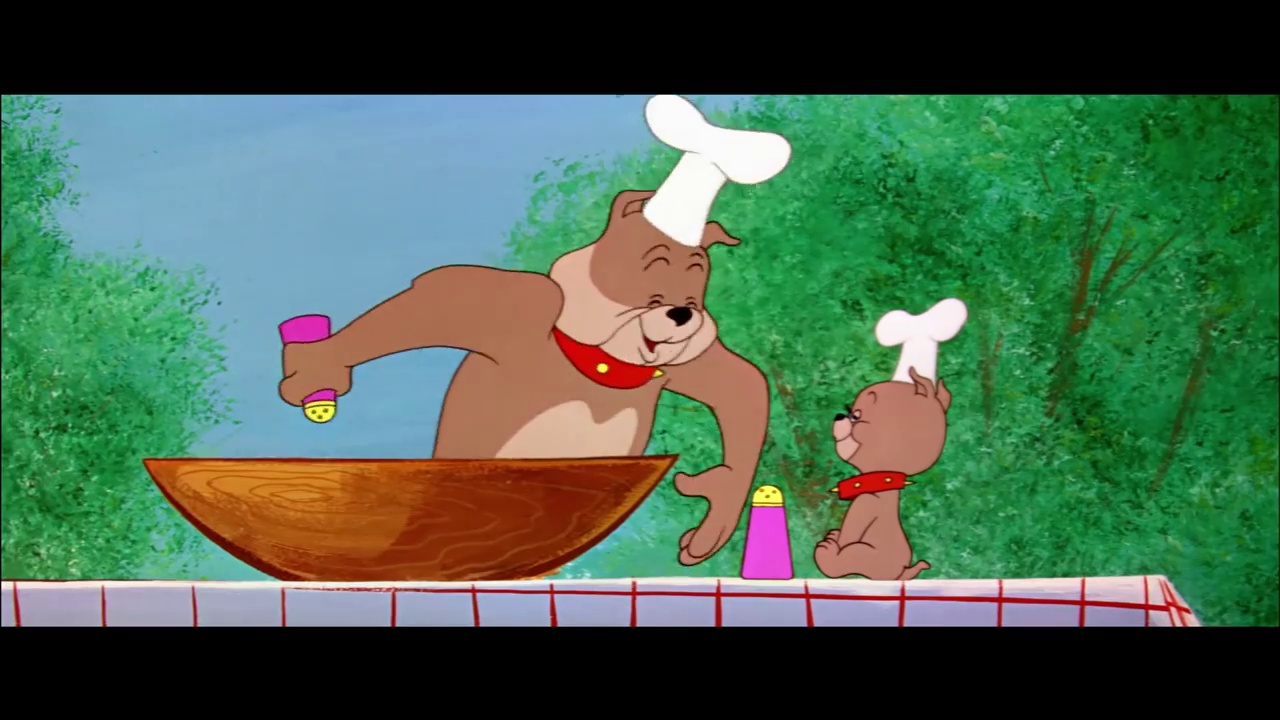spike: (545, 187, 747, 390)
